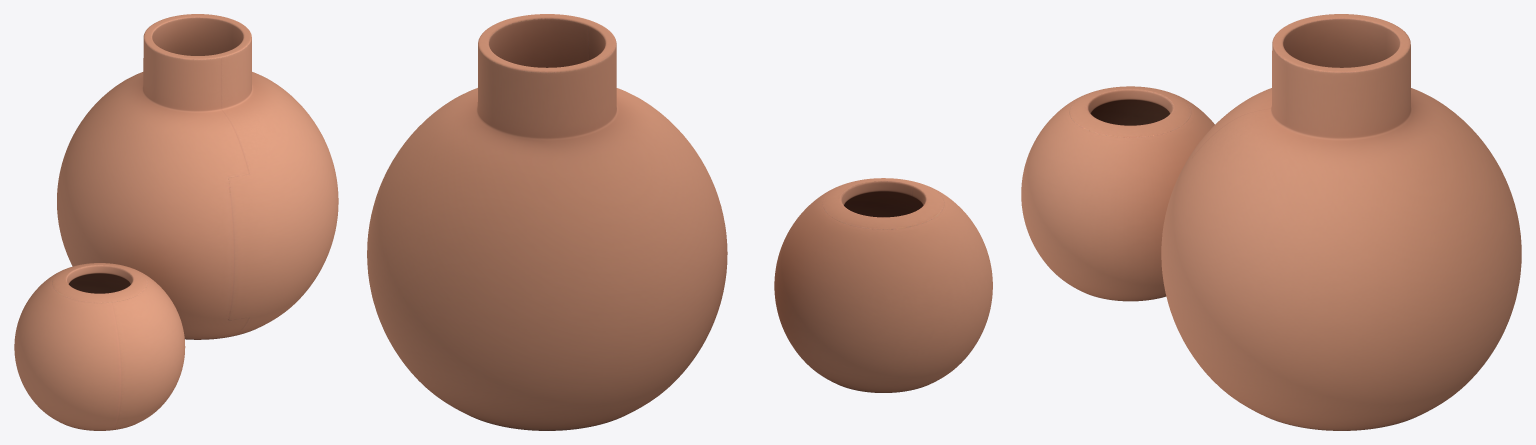
Rendered from cera0008.glb.
The picture shows the model from 3 angles, left to right: view 1: azimuth 30°, elevation 25°; view 2: azimuth 150°, elevation 25°; view 3: azimuth 270°, elevation 25°; orthographic projection. The views are drawn at different scales.
Parts seen in each view (by area): view 1: bake_ceramic008_spheres; view 2: bake_ceramic008_spheres; view 3: bake_ceramic008_spheres.
Boxes of the visible parts, x1,y1,x2,y2 form: bake_ceramic008_spheres: (14, 14, 338, 430); bake_ceramic008_spheres: (367, 14, 992, 430); bake_ceramic008_spheres: (1021, 14, 1521, 430).
Bounding box in the file's own units: 290 × 199 × 261.
Materials: 1 (1 with a texture image).
